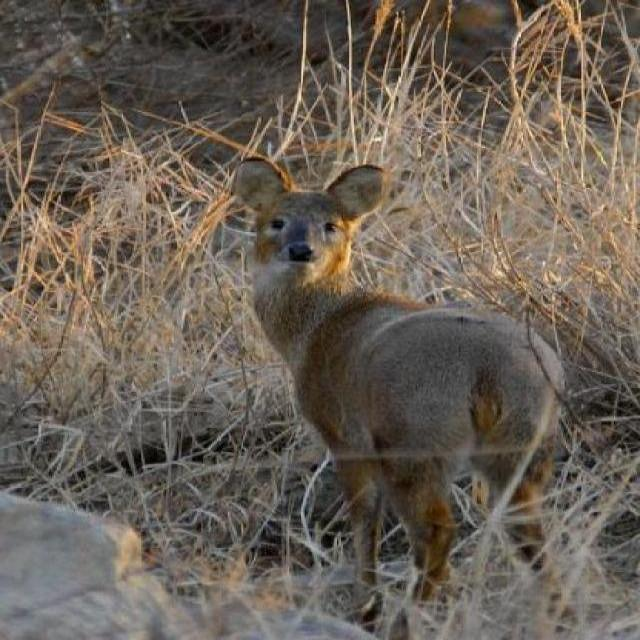deer: (234, 155, 574, 597)
